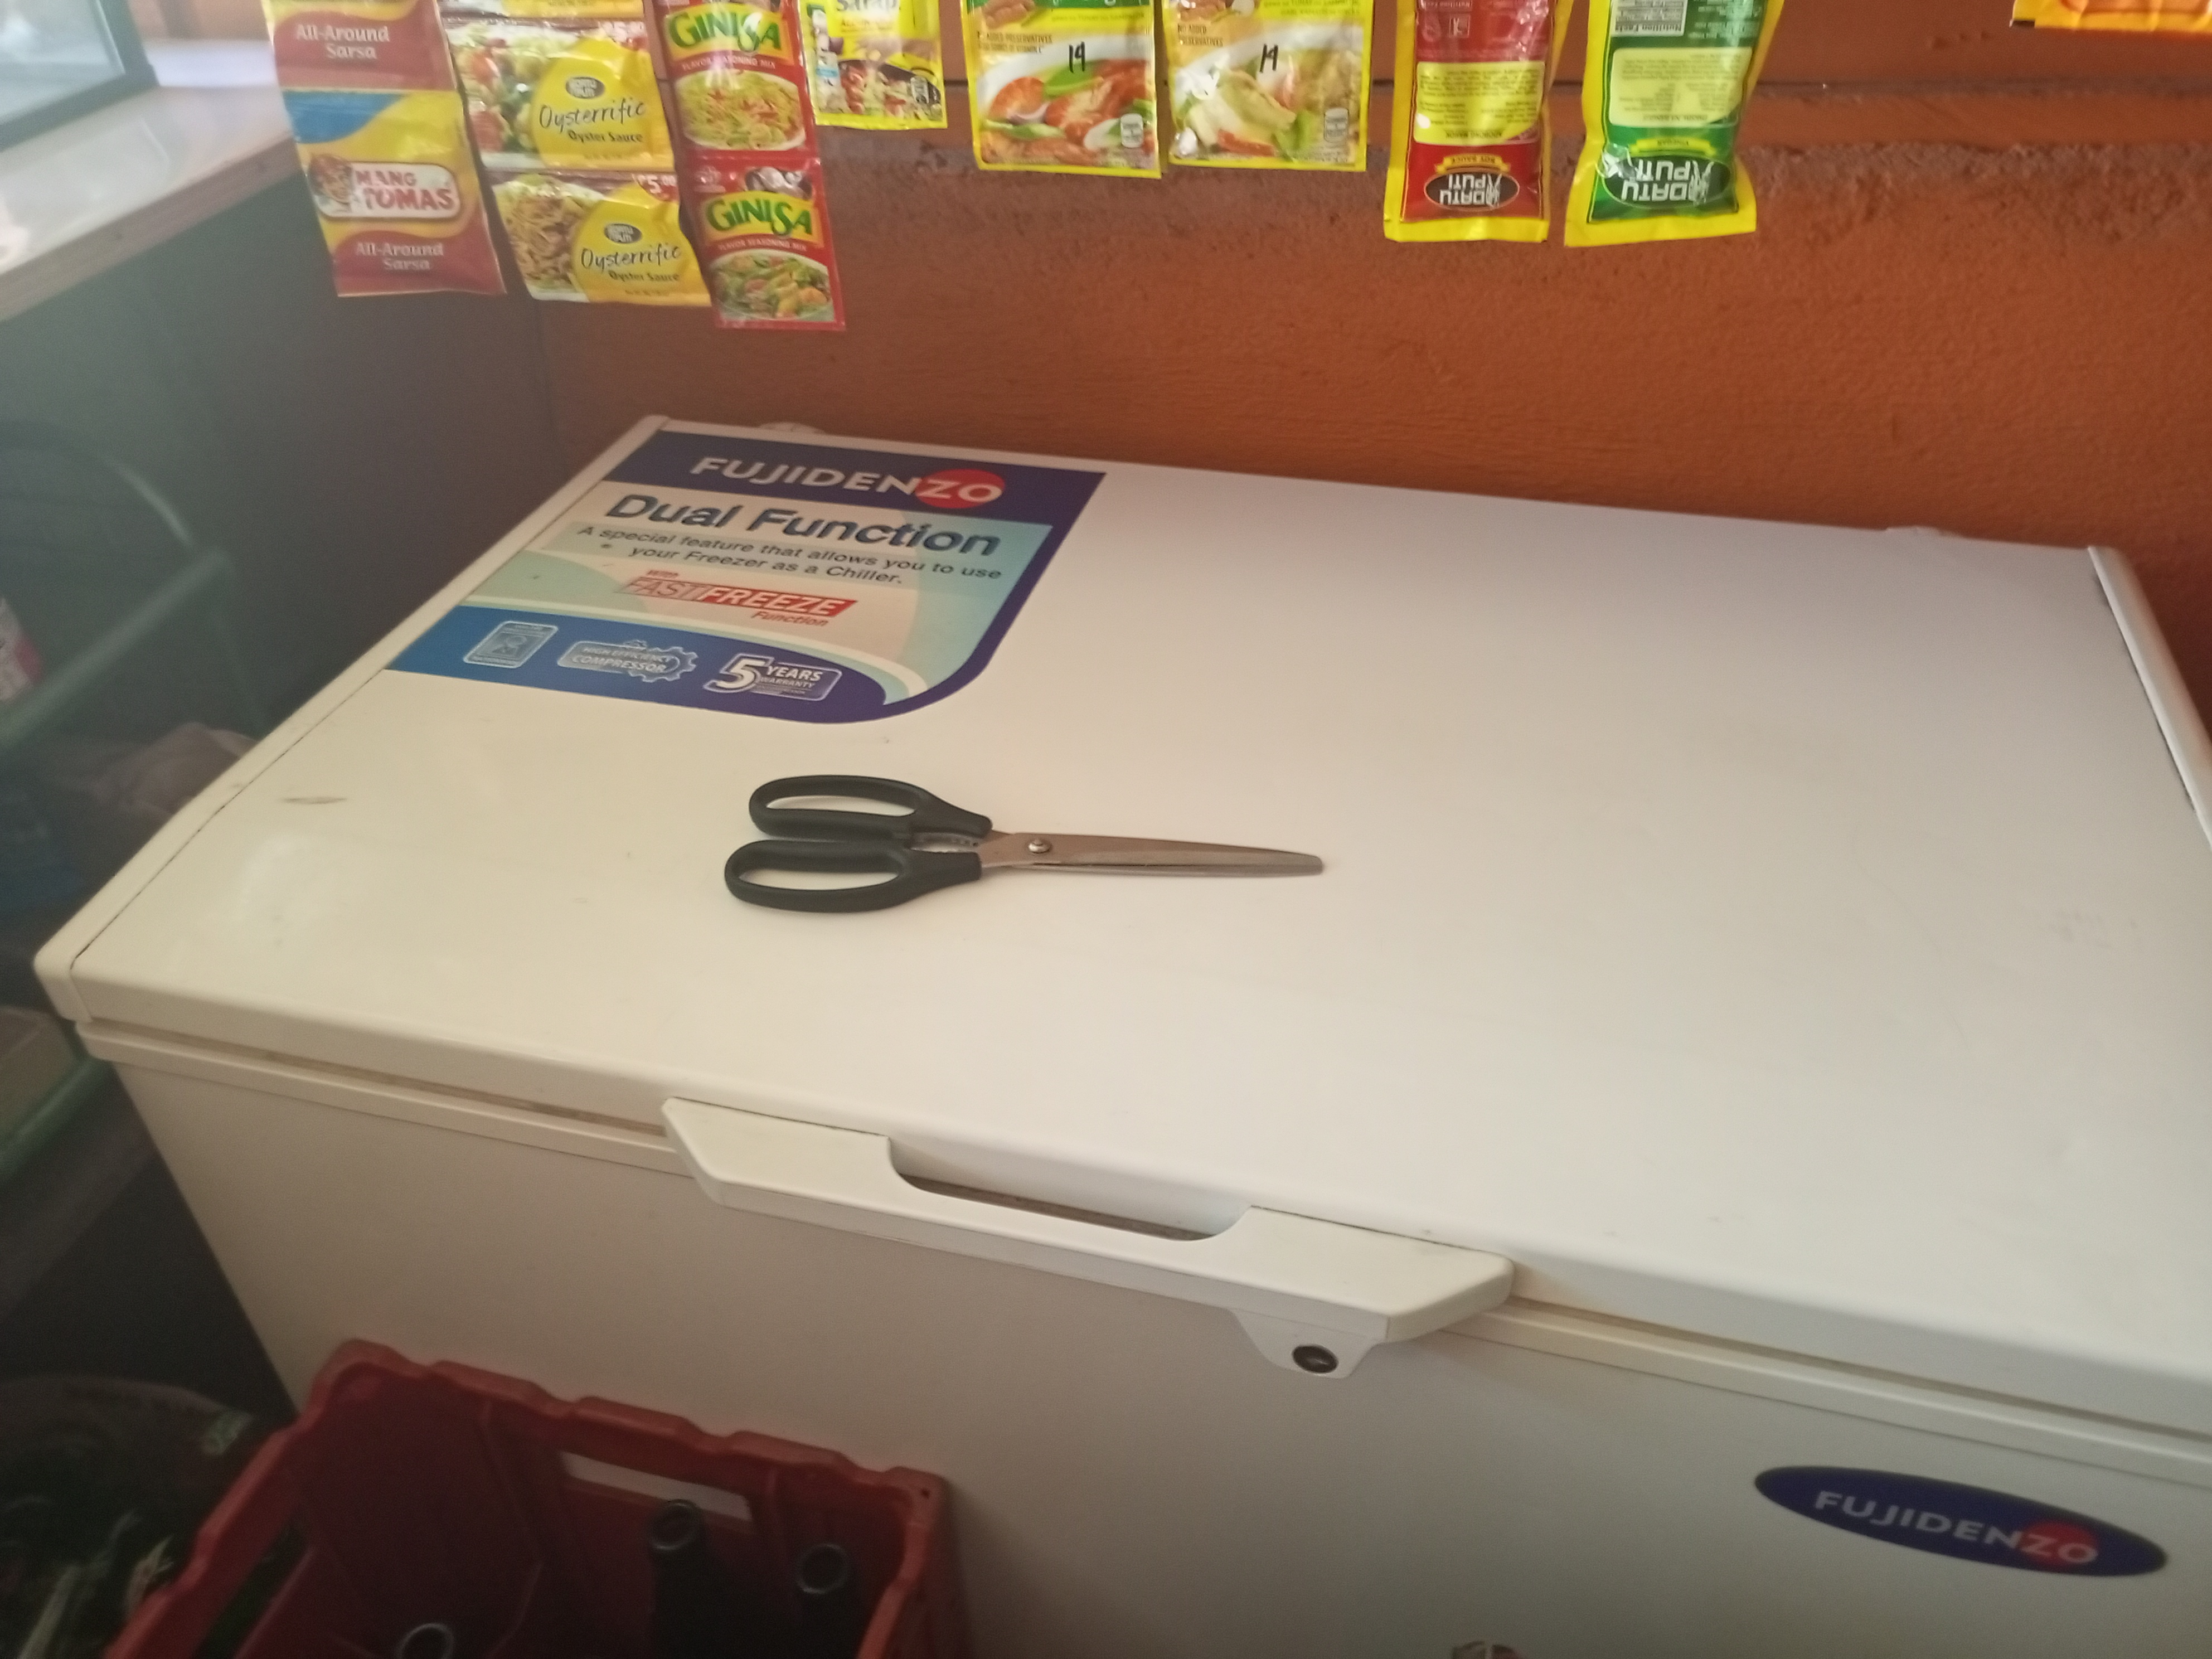scissor: (730, 779, 1317, 929)
